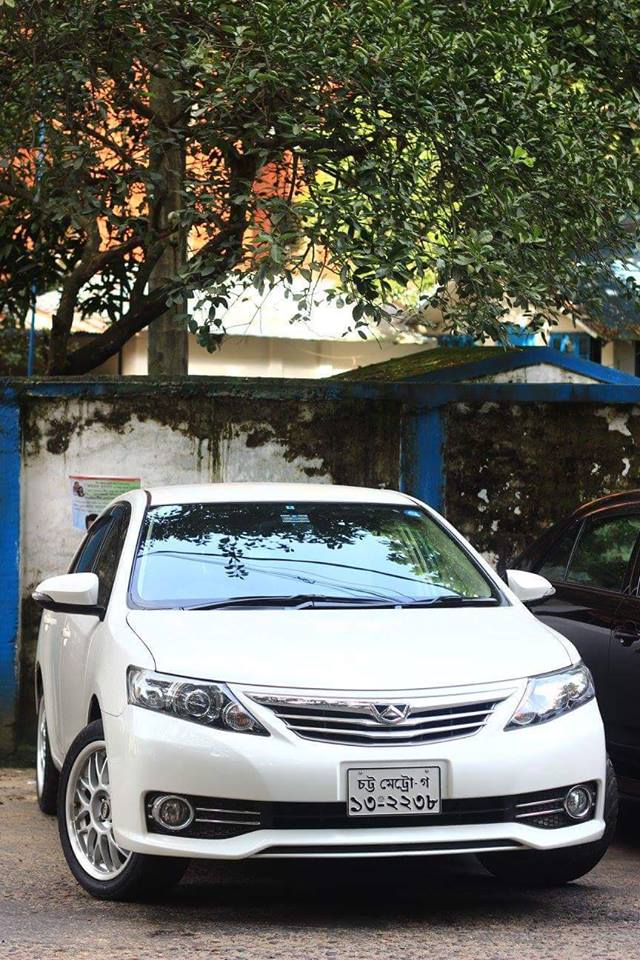registration_plate: (345, 766, 442, 817)
